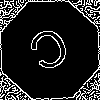C: (25, 25, 77, 82)
